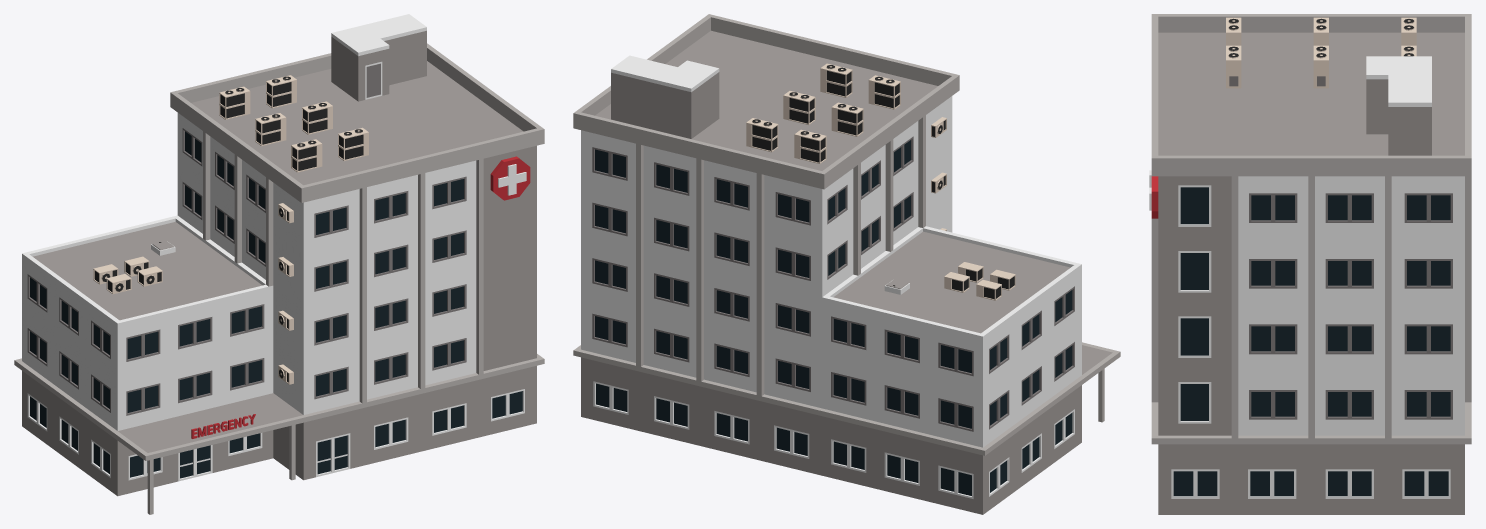
The model's file is building-hospital.glb.
3 views of the same model, side by side, from view 1: azimuth 30°, elevation 25°; view 2: azimuth 150°, elevation 25°; view 3: azimuth 270°, elevation 25° (orthographic). The views are drawn at different scales.
Visible parts, largest first — view 1: building-hospital; view 2: building-hospital; view 3: building-hospital.
Boxes of the visible parts, box(x1,y1,x2,y2) form: building-hospital: box(14, 14, 544, 514); building-hospital: box(573, 14, 1120, 514); building-hospital: box(1149, 14, 1471, 514).
Bounding box in the file's own units: 25.6 × 20.3 × 14.7.
Materials: 1 (1 with a texture image).
